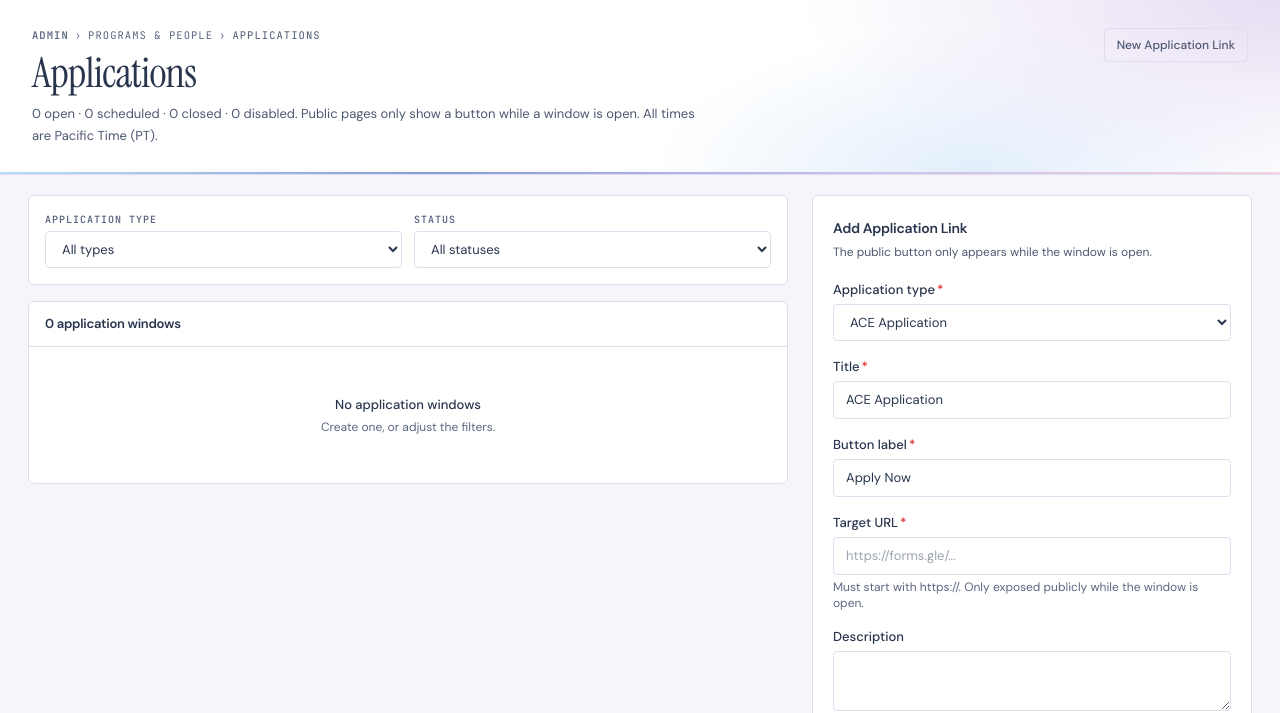
Test: Applications link form › blocks a bad submit with inline errors on the fields and writes nothing
Type "http://insecure.example.com" into the field labelled "Target URL*" at [1032, 556], box [833, 537, 1231, 575]
(page scrolled)
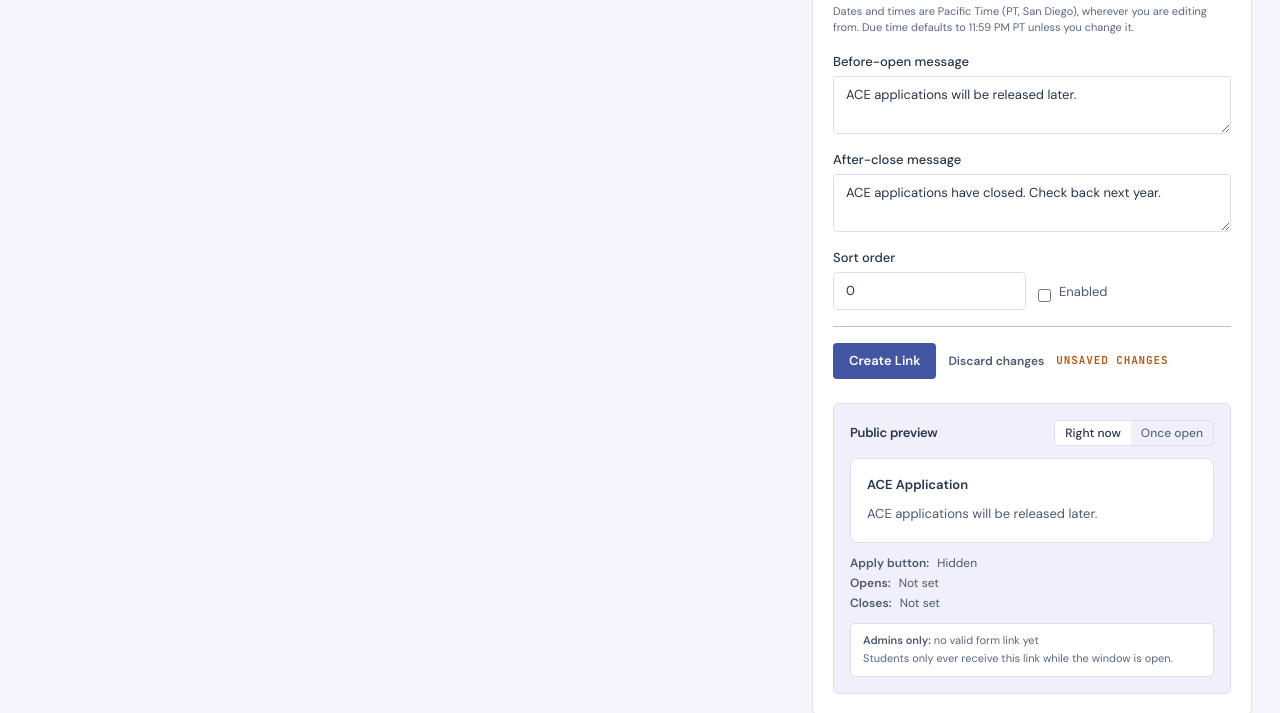
Click the button "Create Link" at [885, 361], box [833, 343, 936, 379]
(page scrolled)
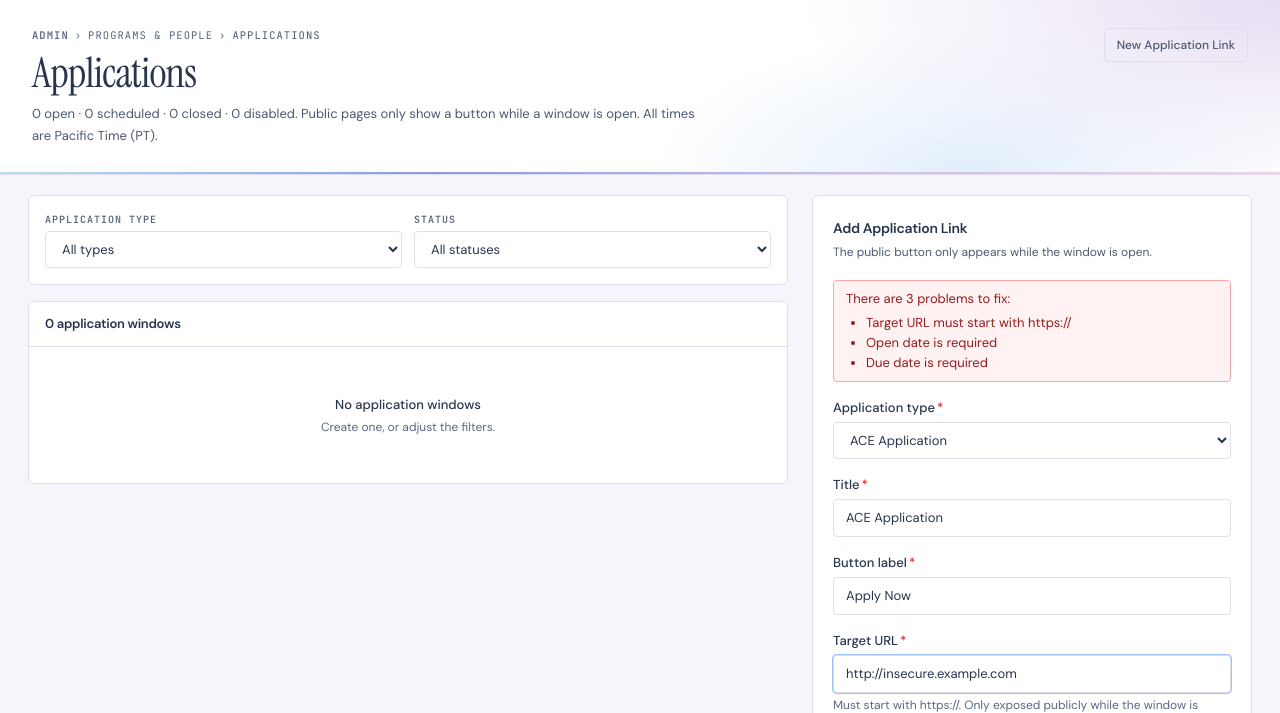
Check: the text "There are 3 problems to fix:" is shown, box [846, 290, 1010, 307]
